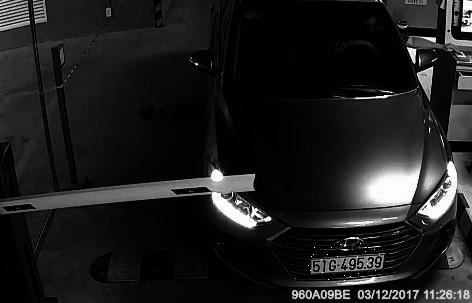License-plate: (308, 244, 393, 282)
